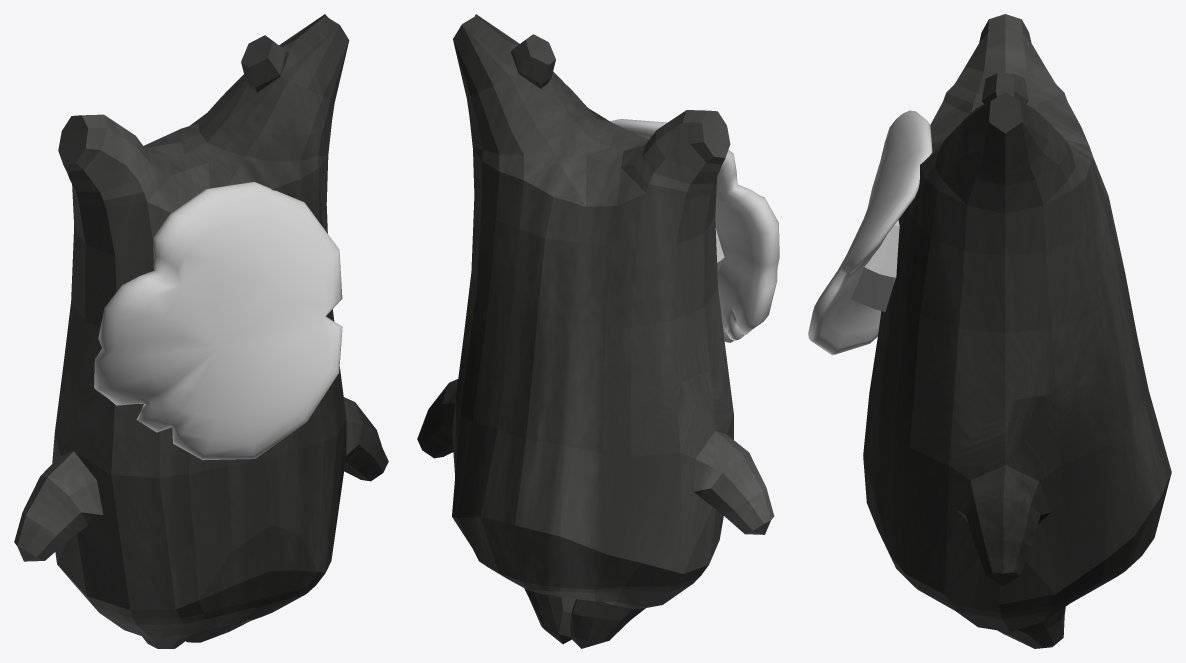
The model's file is frame_0010.obj.
The picture shows the model from 3 angles, left to right: view 1: azimuth 30°, elevation 25°; view 2: azimuth 150°, elevation 25°; view 3: azimuth 270°, elevation 25°; orthographic projection. The views are drawn at different scales.
Parts seen in each view (by area): view 1: korok, leaf; view 2: korok, leaf; view 3: korok, leaf, nose.
Part boxes in pixels (x1=…): korok: x1=14, y1=14, x2=388, y2=648; leaf: x1=94, y1=182, x2=342, y2=460; korok: x1=417, y1=14, x2=774, y2=648; leaf: x1=610, y1=119, x2=779, y2=342; korok: x1=863, y1=14, x2=1171, y2=648; leaf: x1=808, y1=110, x2=932, y2=355; nose: x1=851, y1=220, x2=899, y2=311.
Bounding box in the file's own units: 1.6 × 2.55 × 1.38.
